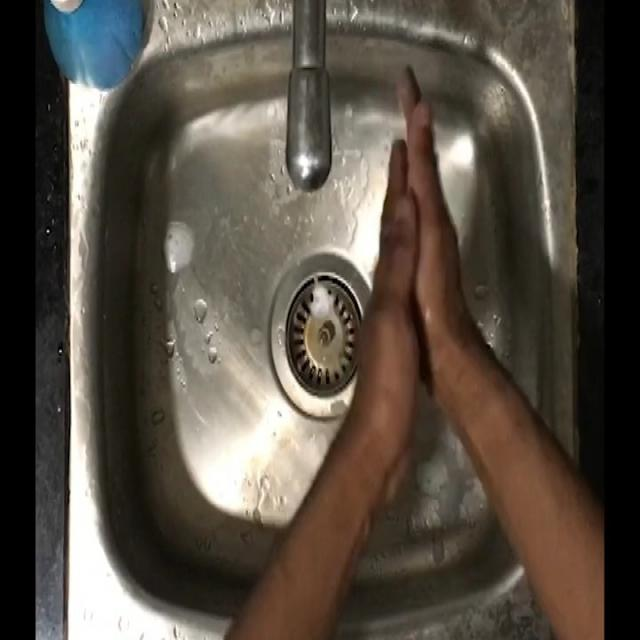step_1: (353, 51, 469, 376)
